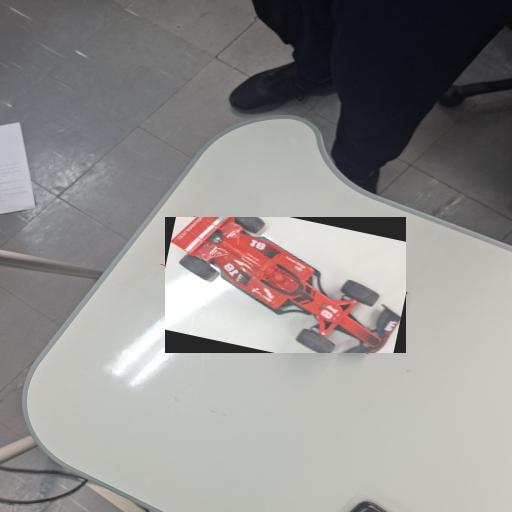carro: (164, 218, 405, 352)
